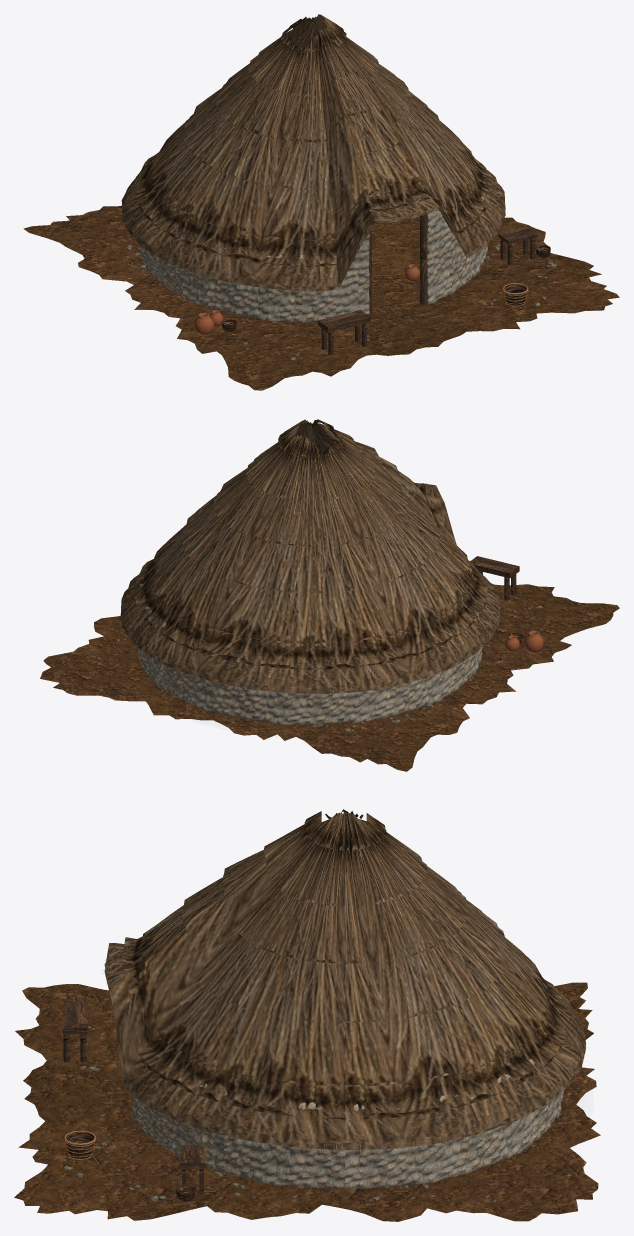
File: house.glb
The picture shows the model from 3 angles, top to bottom: view 1: azimuth 30°, elevation 25°; view 2: azimuth 150°, elevation 25°; view 3: azimuth 270°, elevation 25°; orthographic projection. The views are drawn at different scales.
Visible parts, largest first — view 1: part_13, part_1, part_14, part_0, part_4, part_12, part_6; view 2: part_13, part_1, part_14, part_4, part_12; view 3: part_13, part_1, part_14, part_4, part_6, part_2.
Part boxes in pixels (x1,y1,x2,y2): part_13: [121, 14, 505, 291]; part_1: [23, 206, 619, 390]; part_14: [139, 158, 487, 322]; part_0: [371, 216, 419, 314]; part_4: [318, 214, 537, 354]; part_12: [194, 264, 419, 335]; part_6: [221, 245, 550, 332]; part_13: [120, 419, 500, 693]; part_1: [40, 583, 619, 771]; part_14: [138, 564, 482, 725]; part_4: [470, 556, 519, 600]; part_12: [505, 630, 543, 653]; part_13: [104, 809, 586, 1150]; part_1: [14, 982, 600, 1221]; part_14: [131, 1059, 563, 1189]; part_4: [63, 1002, 205, 1193]; part_6: [65, 1131, 195, 1201]; part_2: [63, 1026, 534, 1211].
Bounding box in the file's own units: 6.26 × 3.63 × 6.7.
16 materials, 10 textured.
